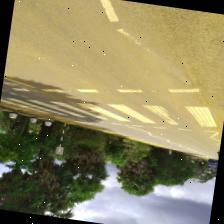crossing: (74, 101, 134, 124), (48, 100, 110, 122), (106, 102, 158, 126), (182, 104, 220, 129), (140, 104, 182, 126), (168, 85, 200, 97), (116, 86, 143, 96), (76, 86, 100, 96)
